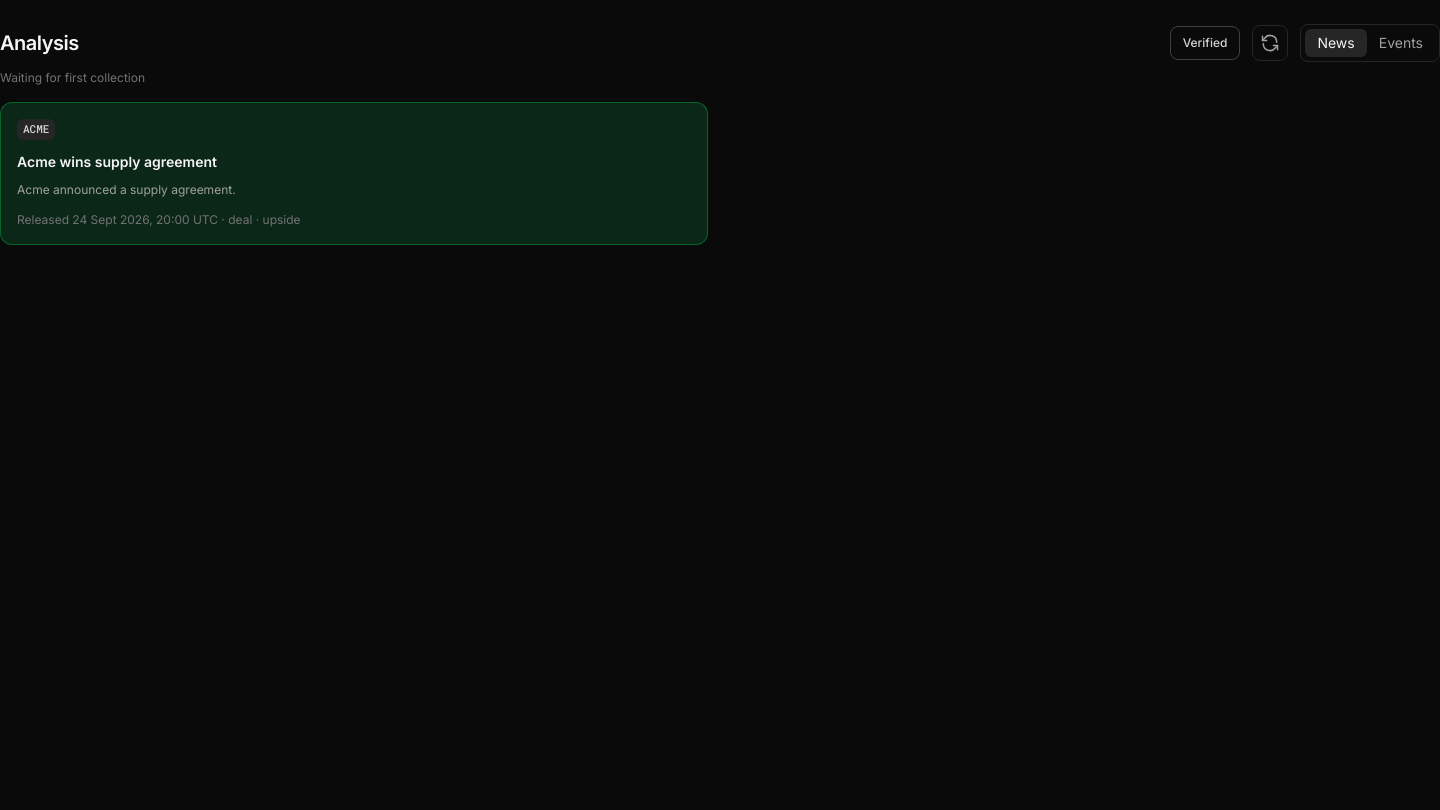
Scenario: NewsSection › shows the active tab's source error details and hides the icon when that tab is healthy
The image size is (1440, 810).
Expected: the button "Acme wins supply agreement" is shown, [0,102,708,244]
Click the tab "Events" at point(1401, 43), box [1367,29,1435,57]
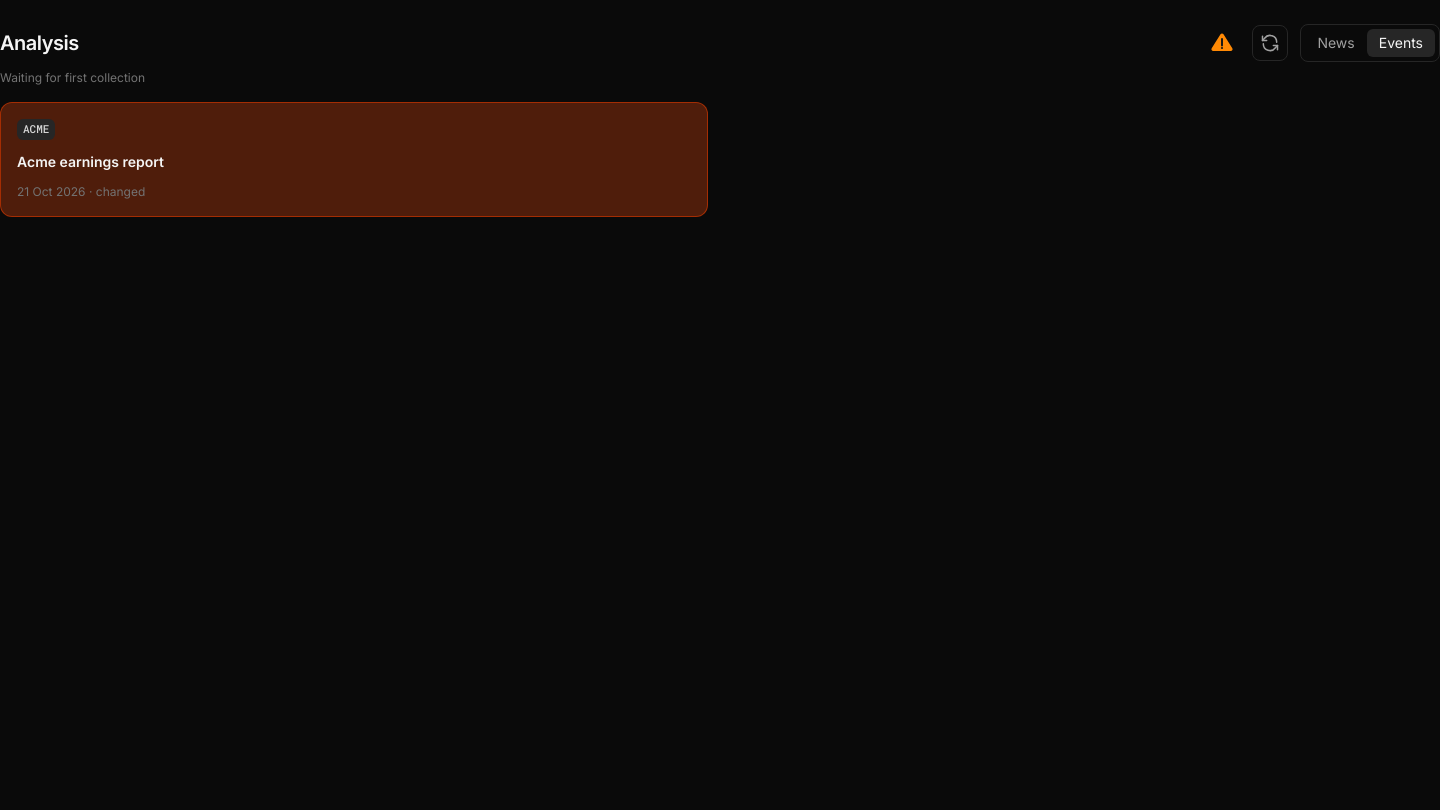
Click the button named "Events collection errors" at point(1222, 43), box [1204,25,1240,61]
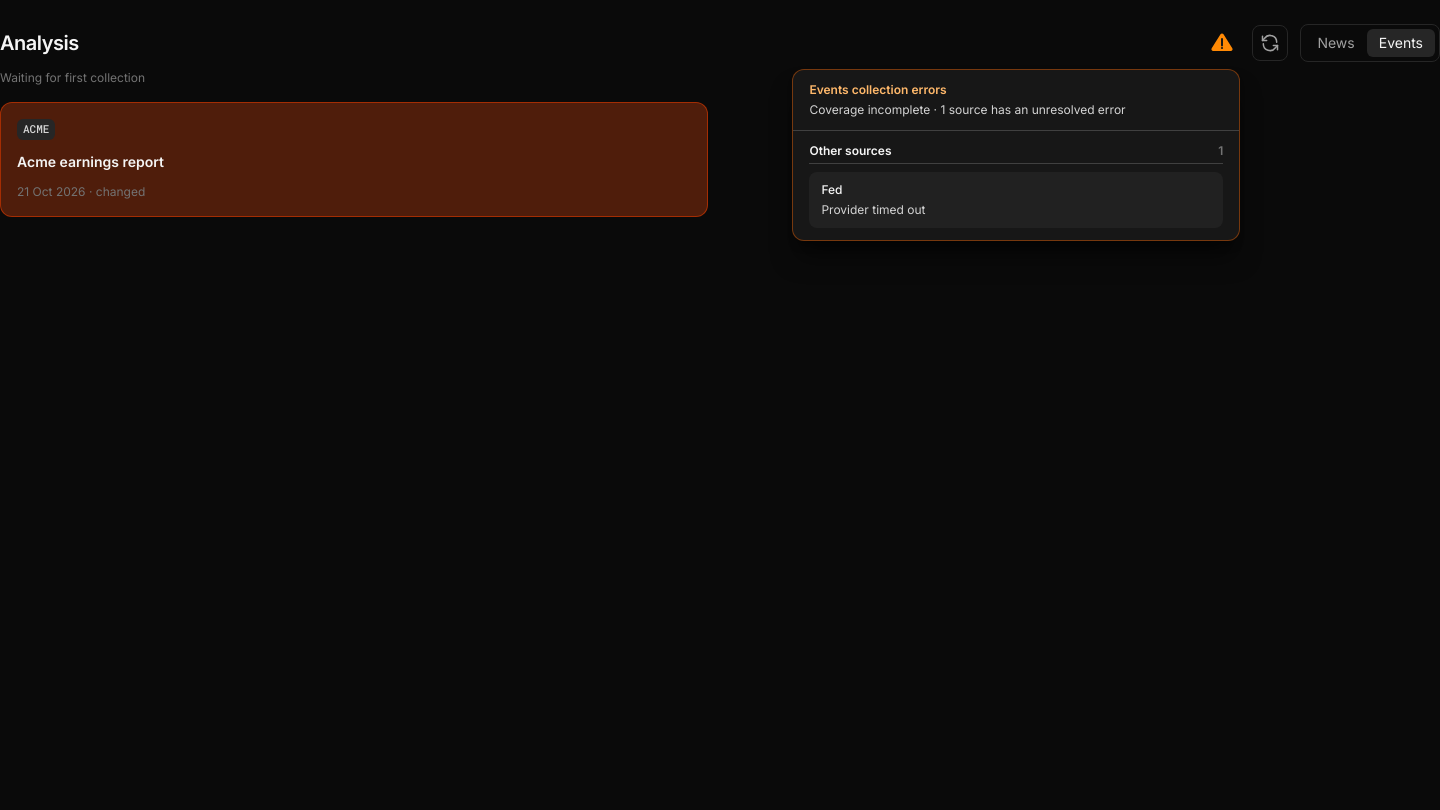
Expected: the dialog "Events collection errors" shows "Provider timed out", [821,202,926,217]
Click the tab "News" at point(1336, 43), box [1305,29,1367,57]
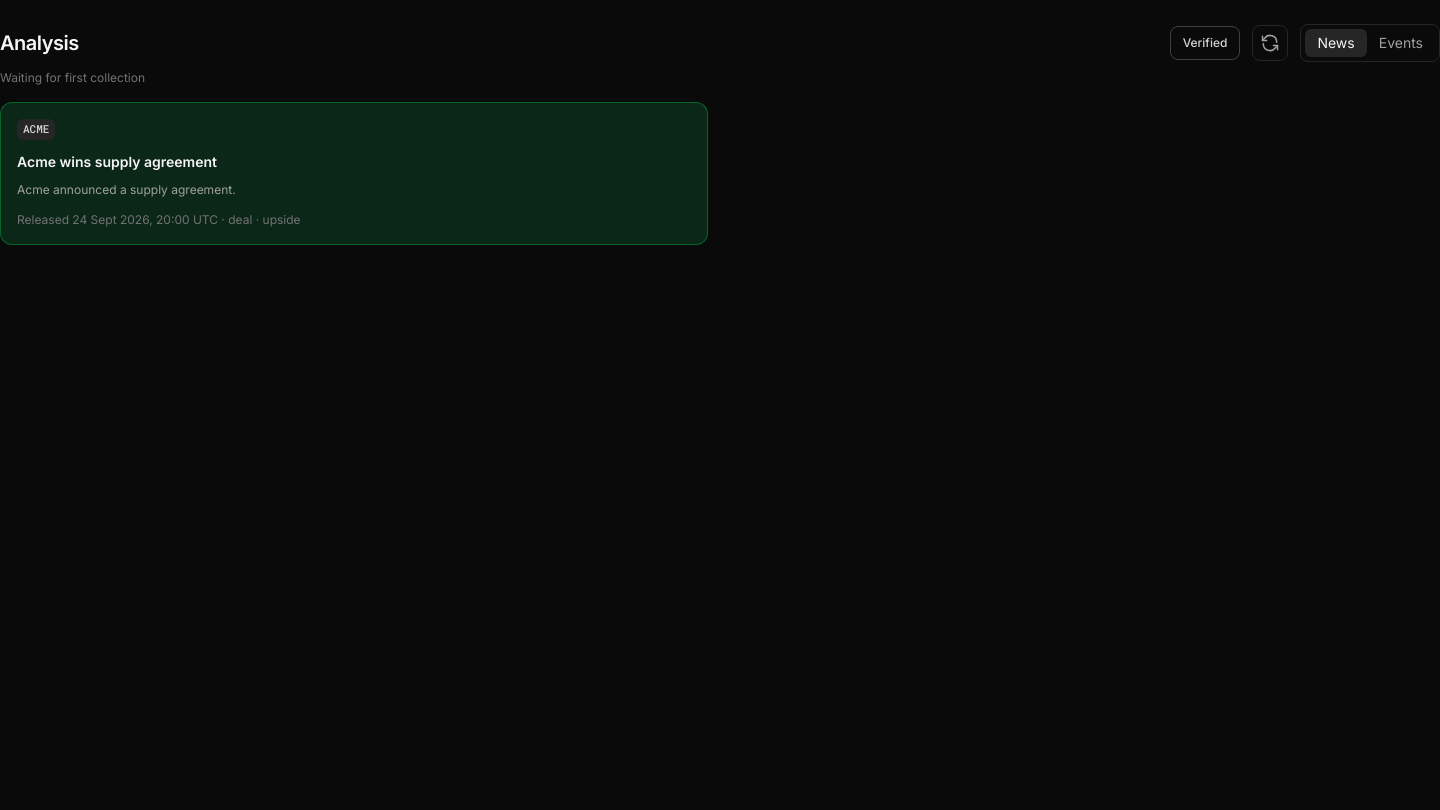
Expected: the text "Events collection errors" is gone
